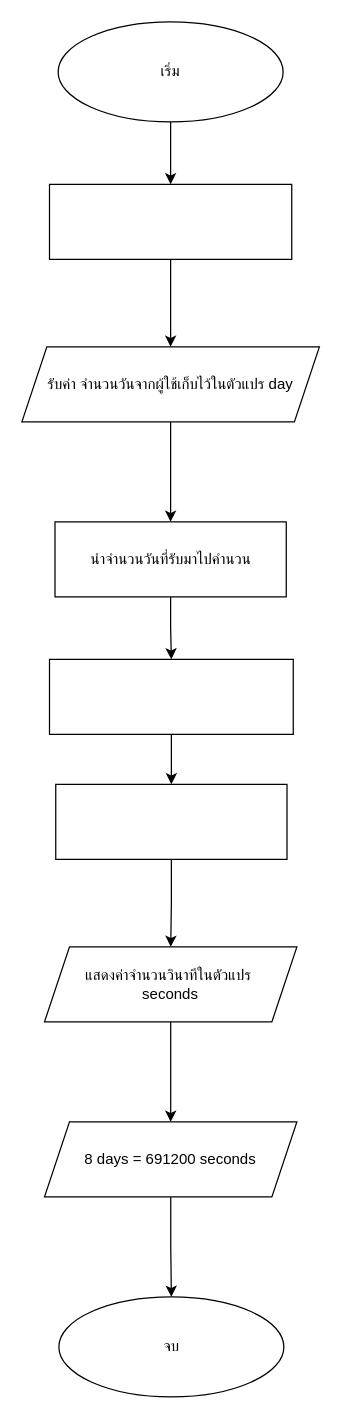
The diagram is 341 pixels wide and 1419 high, and some of its shapes have lost their labels. Here are the shapes that lost their labels. From the top down, the centre of each, then its label:
At point (170, 221): "กำหนดตัวแปร day เพื่อรับจำนวนวันที่กรอก".
At point (170, 696): "สร้างตัวแปร seconds เพื่อเก็บค่าที่คำนวณ".
At point (170, 821): "วัน * 86400 จะเท่ากับ จำนวน วินาที".
